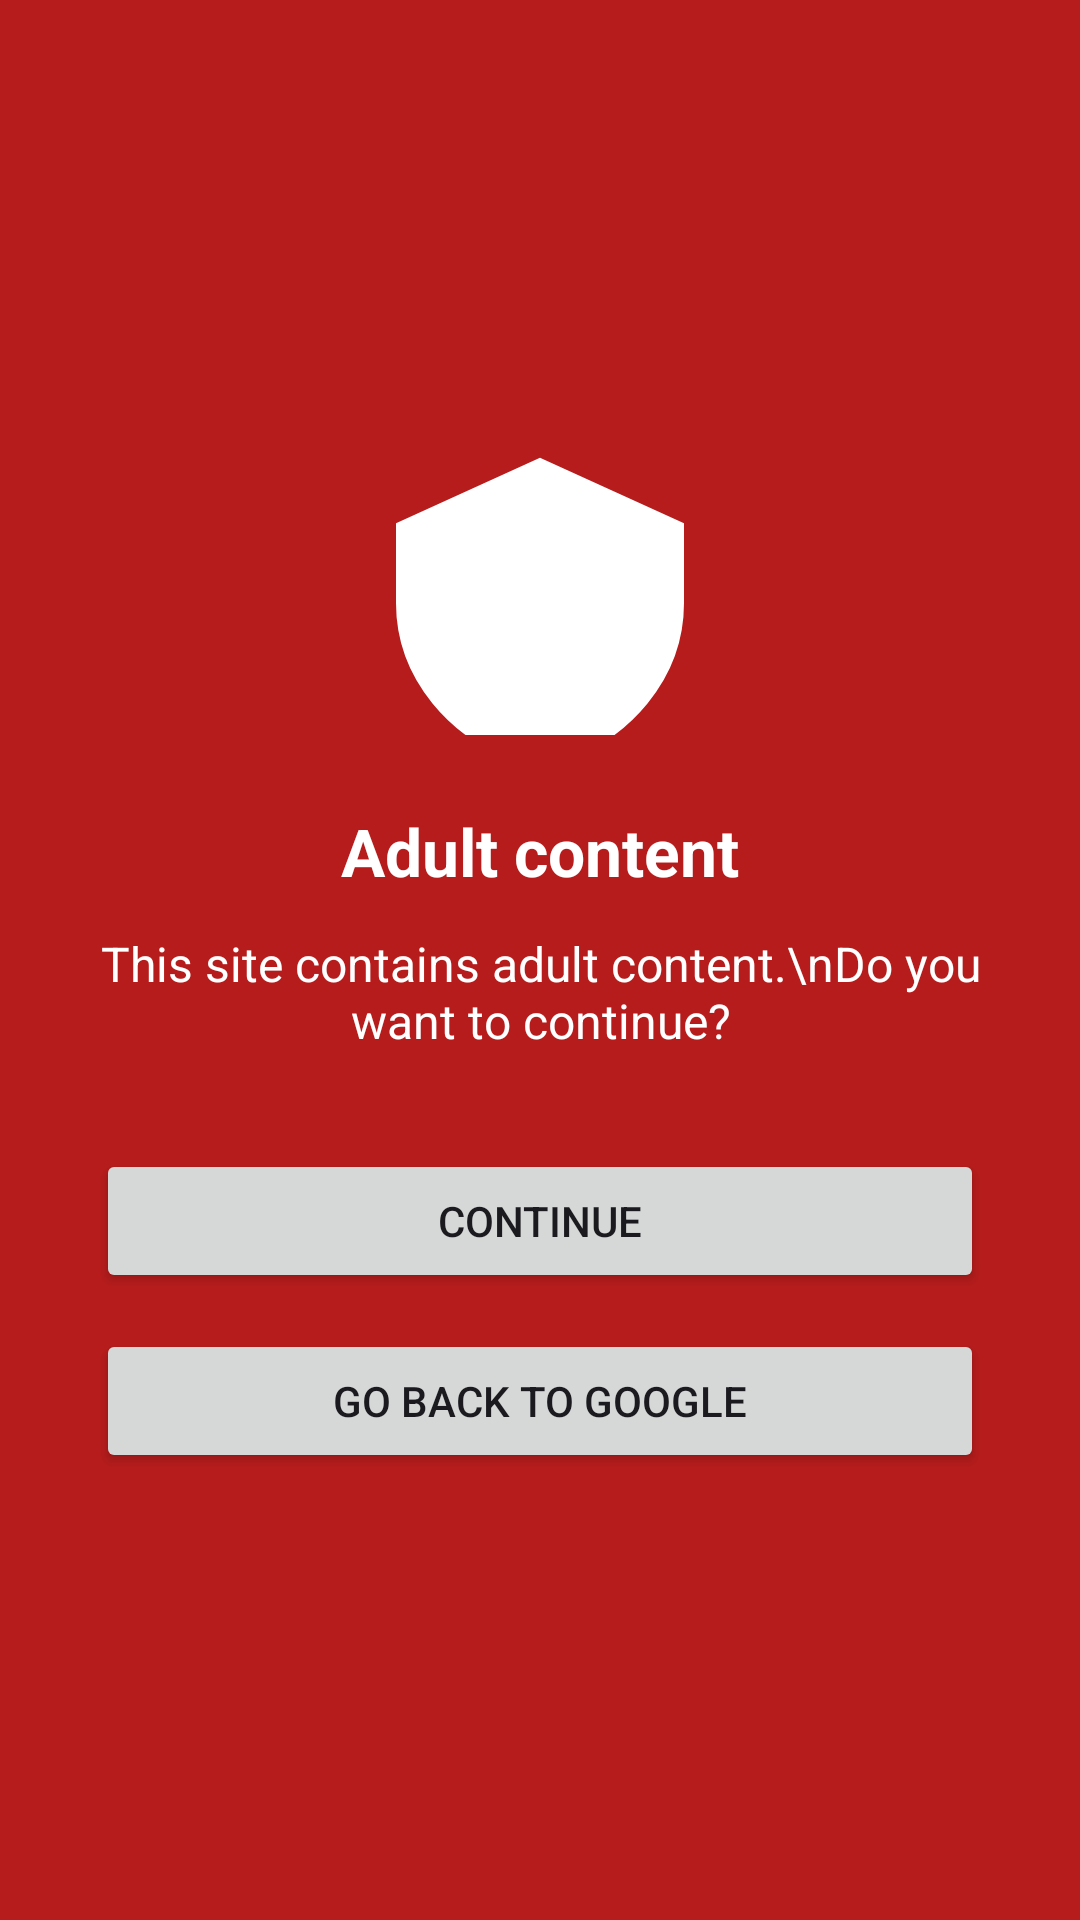

Point at icon controls on the screen. Image size 1080×1920, points as (x,y).
warning: (540,596)
